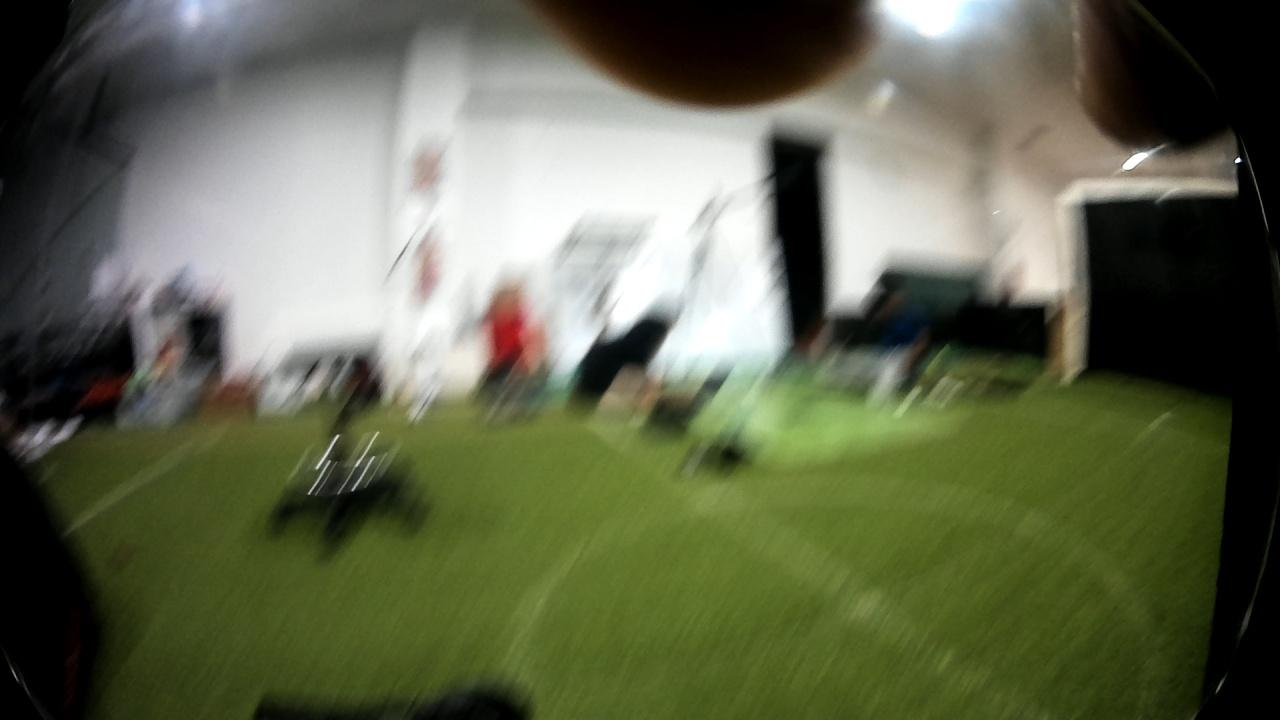ball: (406, 383, 441, 428)
